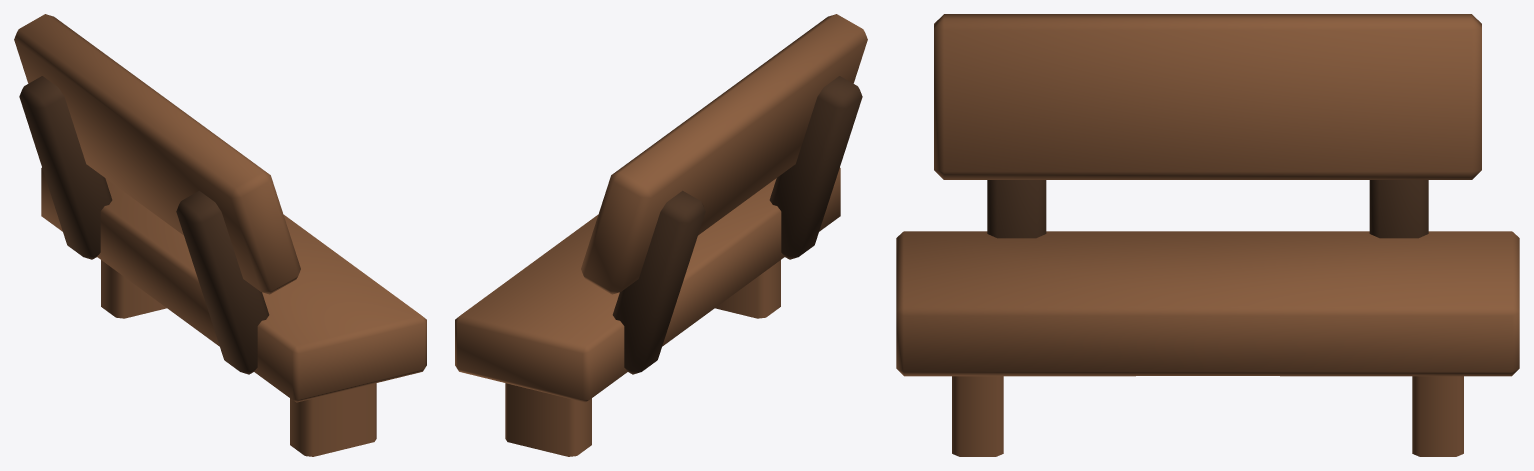
File: Bench.fbx
The picture shows the model from 3 angles, left to right: view 1: azimuth 30°, elevation 25°; view 2: azimuth 150°, elevation 25°; view 3: azimuth 270°, elevation 25°; orthographic projection. The views are drawn at different scales.
Parts seen in each view (by area): view 1: Cube.639, Cube.692, Cube.650; view 2: Cube.639, Cube.692, Cube.650; view 3: Cube.639, Cube.692, Cube.650.
Part boxes in pixels (x1,y1,x2,y2): Cube.639: (41,168,426,456); Cube.692: (14,14,300,294); Cube.650: (19,76,269,374); Cube.639: (455,168,840,456); Cube.692: (581,14,867,294); Cube.650: (612,76,862,374); Cube.639: (896,231,1519,456); Cube.692: (934,14,1481,179); Cube.650: (987,180,1428,238).
Bounding box in the file's own units: 19.16 × 28.01 × 43.29.
